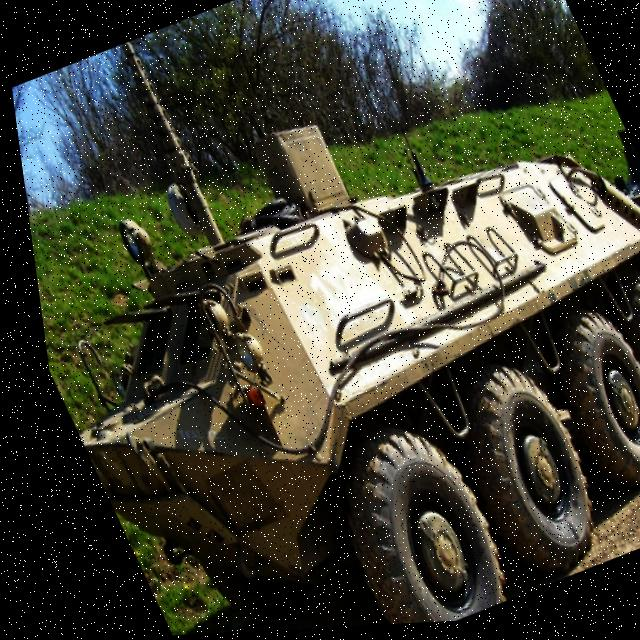MIL_APC: (9, 62, 640, 640)
